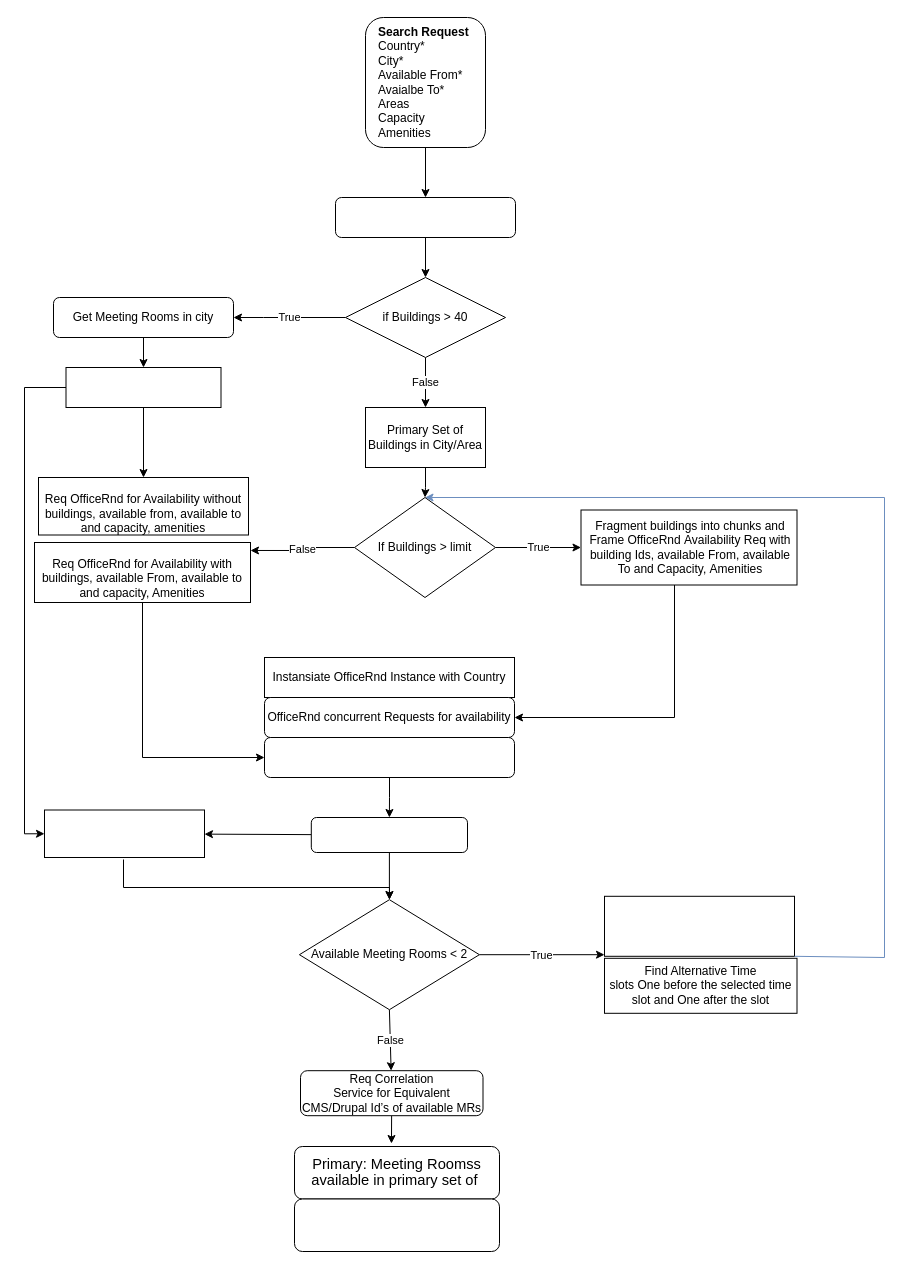
This 910x1269 diagram has some shape labels left out. Each missing label, with the centre of its shape:
Available Meeting Rooms: pixel 389 834
Call Resource Service Get Buildings in the City/Areas: pixel 425 217
Get Available Meeting Rooms: pixel 389 757
Intersection of Available Meeting Rooms: pixel 124 833
Near by: Meeting Rooms available in primary set of: pixel 397 1225
Req Resource Service for Alternate buildings to buildings in areas: pixel 699 925
Total Meeting Rooms in City: pixel 143 387
